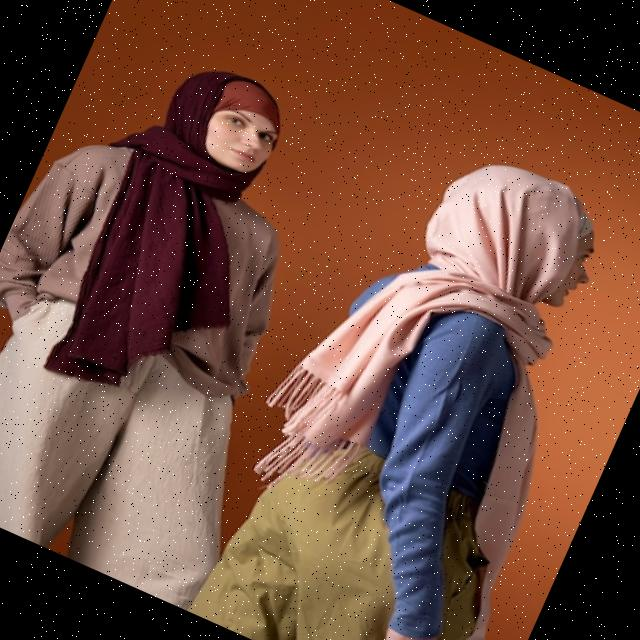Person: (0, 13, 403, 614), (187, 113, 640, 640)
